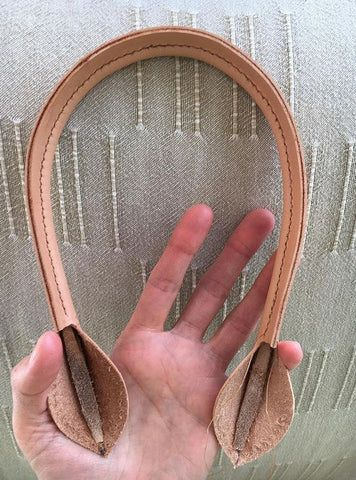cuero: (31, 25, 300, 469)
